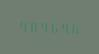eight: (27, 19, 36, 33)
four: (17, 18, 26, 33), (38, 19, 47, 33), (58, 20, 67, 34)
six: (48, 19, 57, 34), (68, 20, 77, 34)
